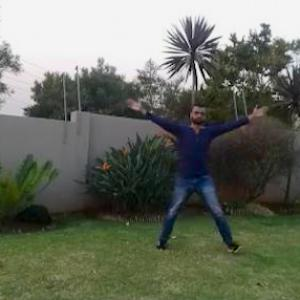takeoff: (124, 97, 265, 259)
